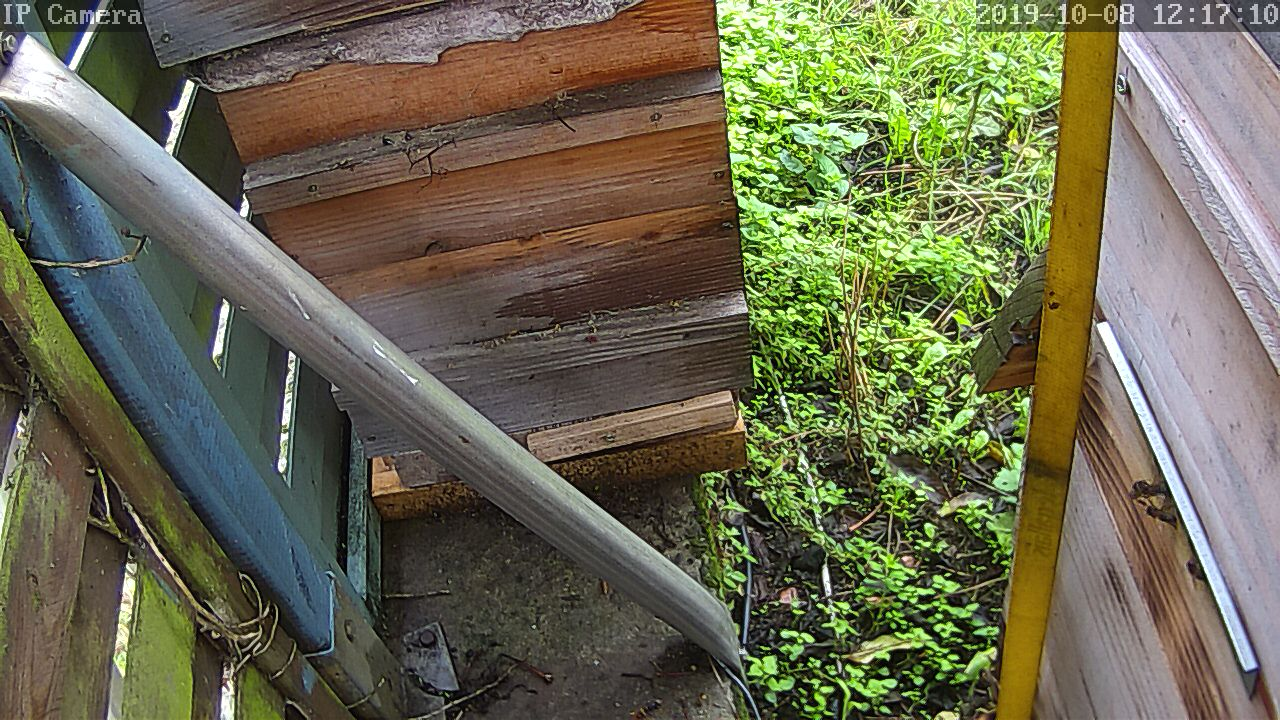bee: (1124, 476, 1183, 530), (1182, 551, 1209, 582)
